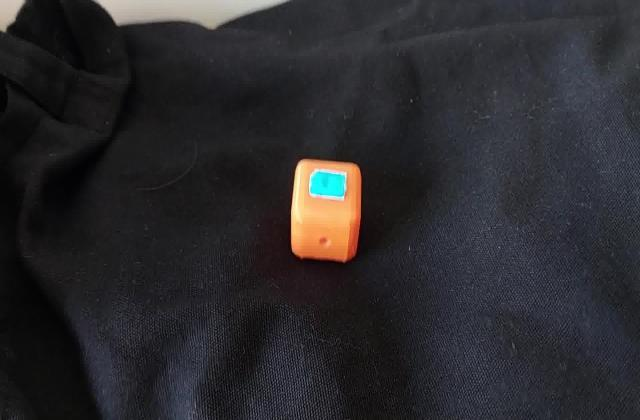blue: (317, 176, 339, 194)
sticker: (288, 156, 364, 265)
